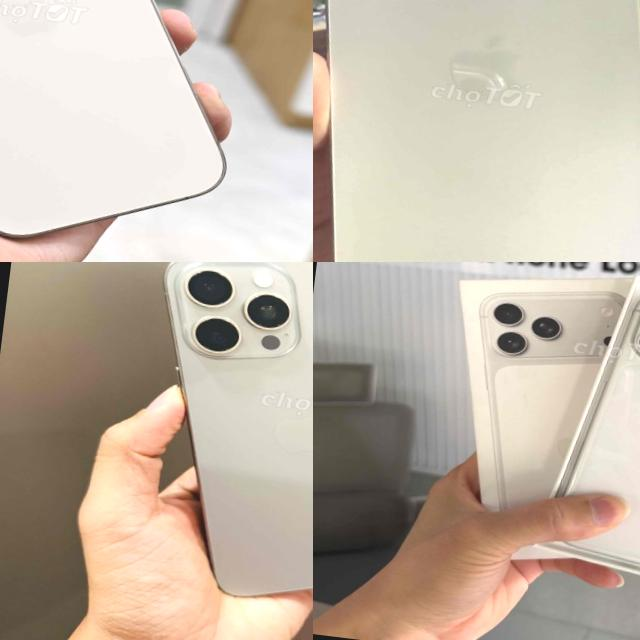gen_14: (0, 0, 273, 262)
gen_15: (313, 0, 640, 262), (108, 262, 313, 619)
gen_17: (539, 271, 640, 594)
